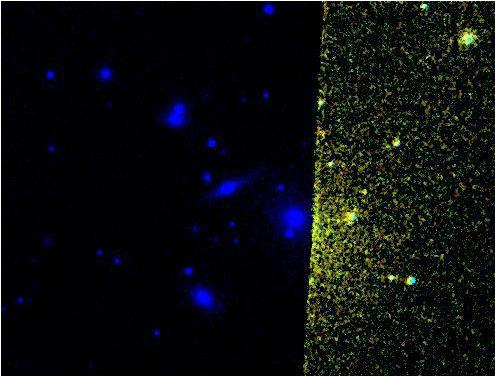star: (350, 176, 380, 206)
